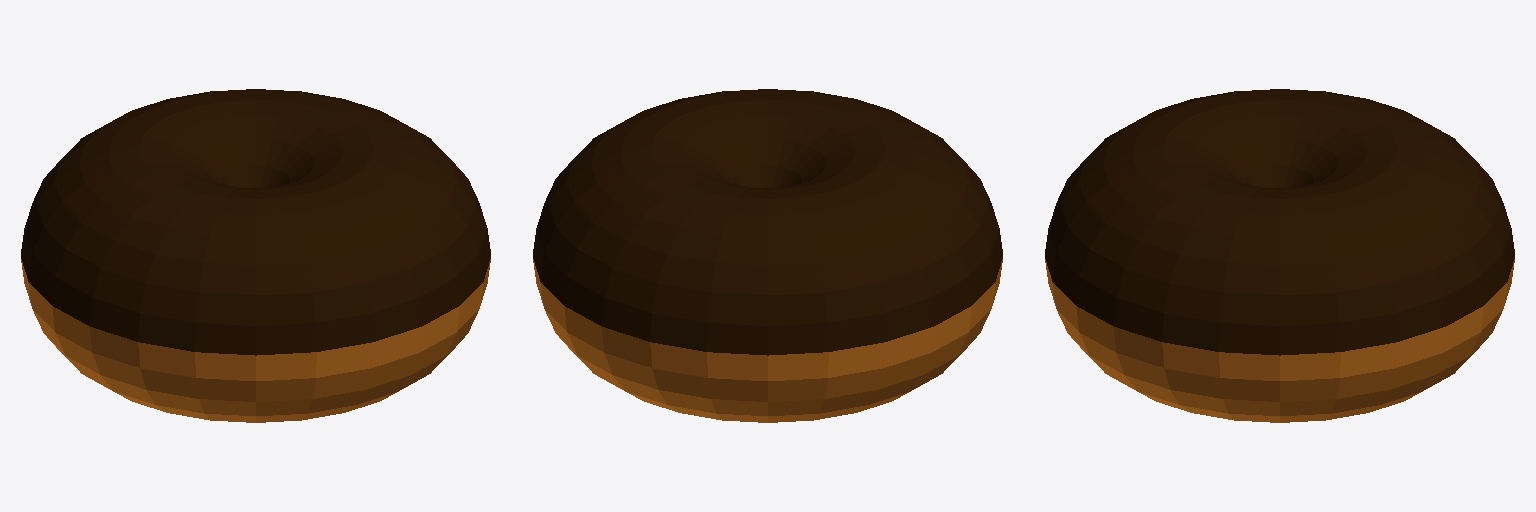
Rendered from donut4.obj.
3 renders of one model, left to right at view 1: azimuth 30°, elevation 25°; view 2: azimuth 150°, elevation 25°; view 3: azimuth 270°, elevation 25°, orthographic.
Parts seen in each view (by area): view 1: Mesh1 Model; view 2: Mesh1 Model; view 3: Mesh1 Model.
Boxes of the visible parts, <box> form: Mesh1 Model: <box>21,89,490,422</box>; Mesh1 Model: <box>533,89,1002,422</box>; Mesh1 Model: <box>1045,89,1514,422</box>.
Size of the model in its own units: 3.41 by 1.71 by 3.41.